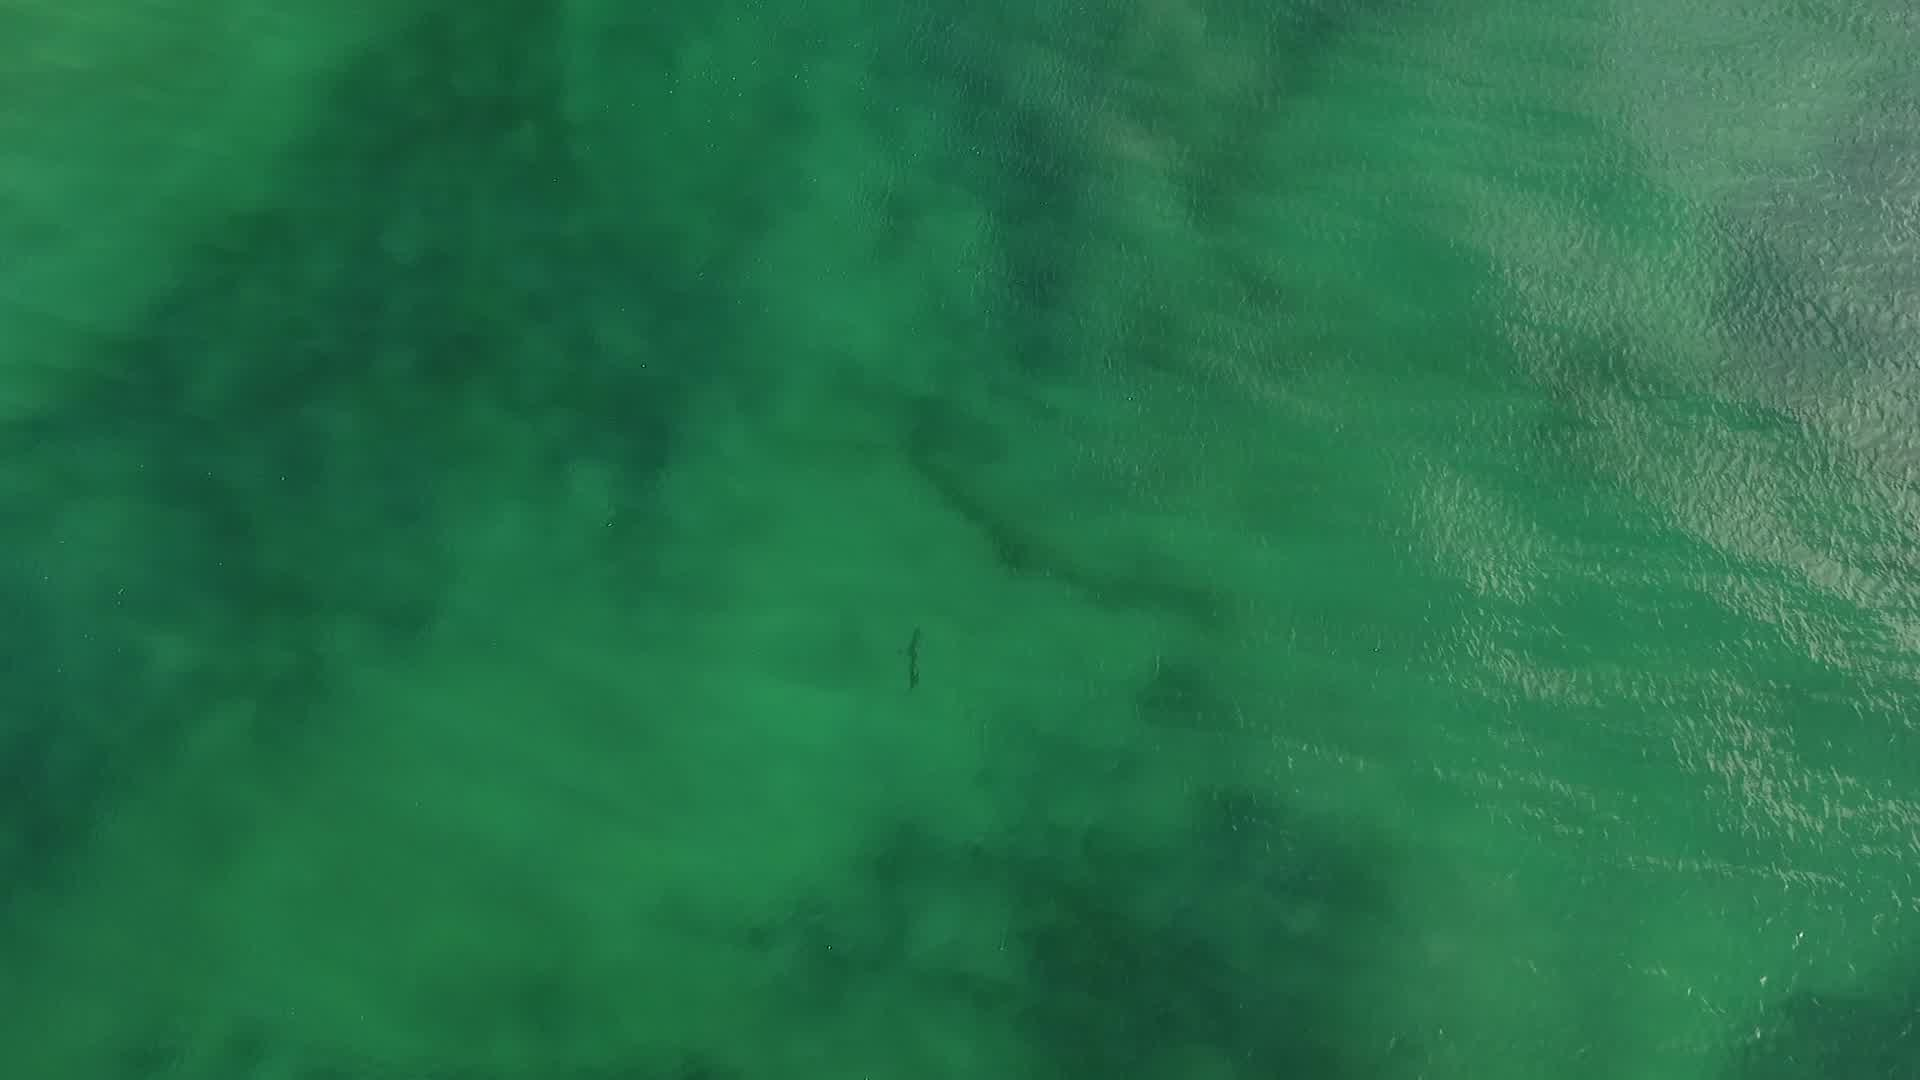shark: (897, 624, 928, 692)
